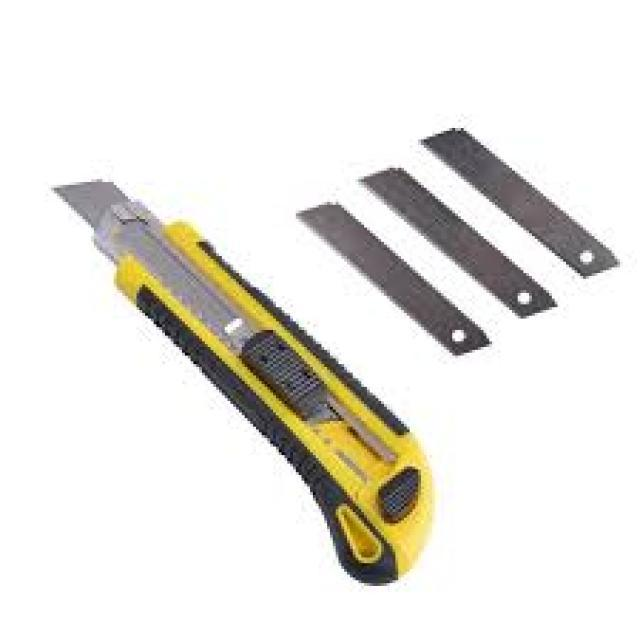cutter: (42, 176, 440, 588)
